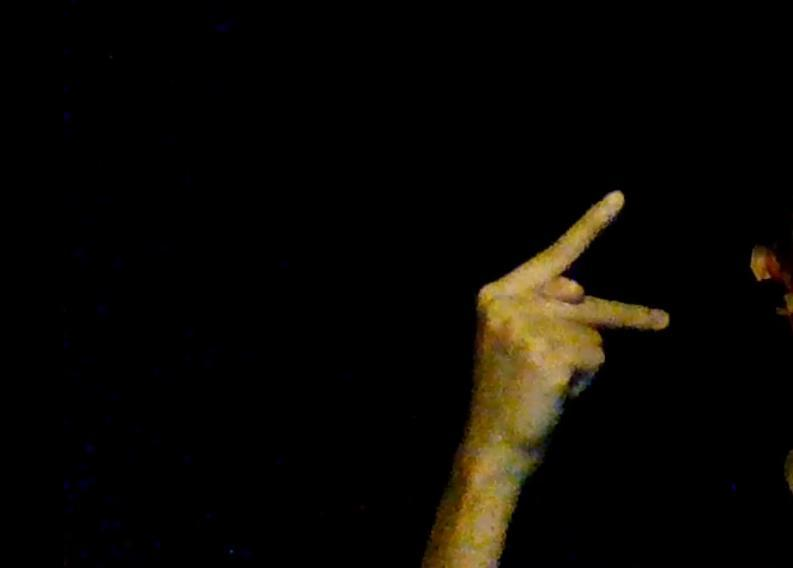k: (467, 187, 672, 442)
